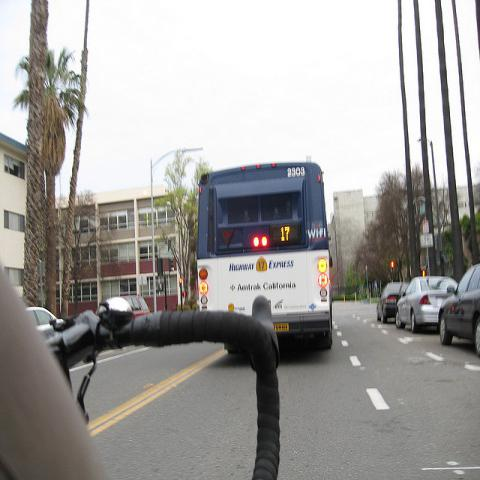bus: (196, 160, 336, 344)
car: (437, 264, 479, 359), (394, 275, 458, 332), (376, 282, 409, 322), (25, 306, 62, 338), (121, 294, 150, 317)
